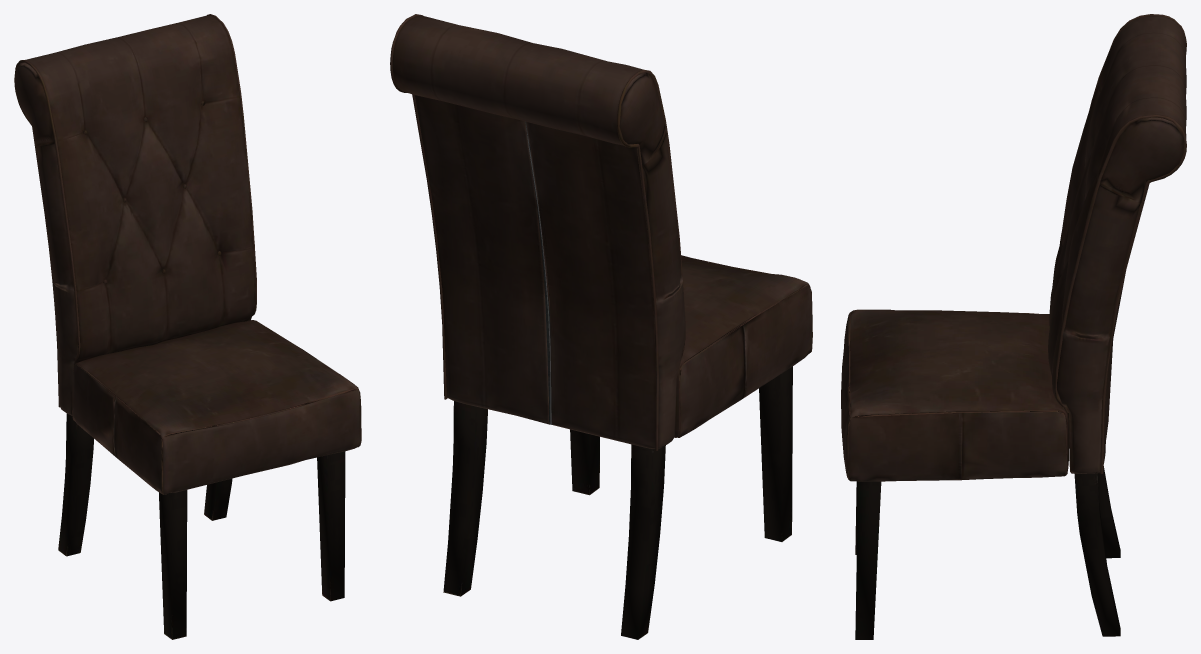
Rendered from dining_chair_02.glb.
The picture shows the model from 3 angles, left to right: view 1: azimuth 30°, elevation 25°; view 2: azimuth 150°, elevation 25°; view 3: azimuth 270°, elevation 25°; orthographic projection. The views are drawn at different scales.
Parts seen in each view (by area): view 1: dining_chair_02; view 2: dining_chair_02; view 3: dining_chair_02.
Boxes of the visible parts, left/top/right/bottom form: dining_chair_02: left=14, top=14, right=361, bottom=639; dining_chair_02: left=390, top=14, right=812, bottom=639; dining_chair_02: left=841, top=14, right=1186, bottom=639.
Bounding box in the file's own units: 0.4336 × 0.9728 × 0.5765.
1 material, 1 textured.
